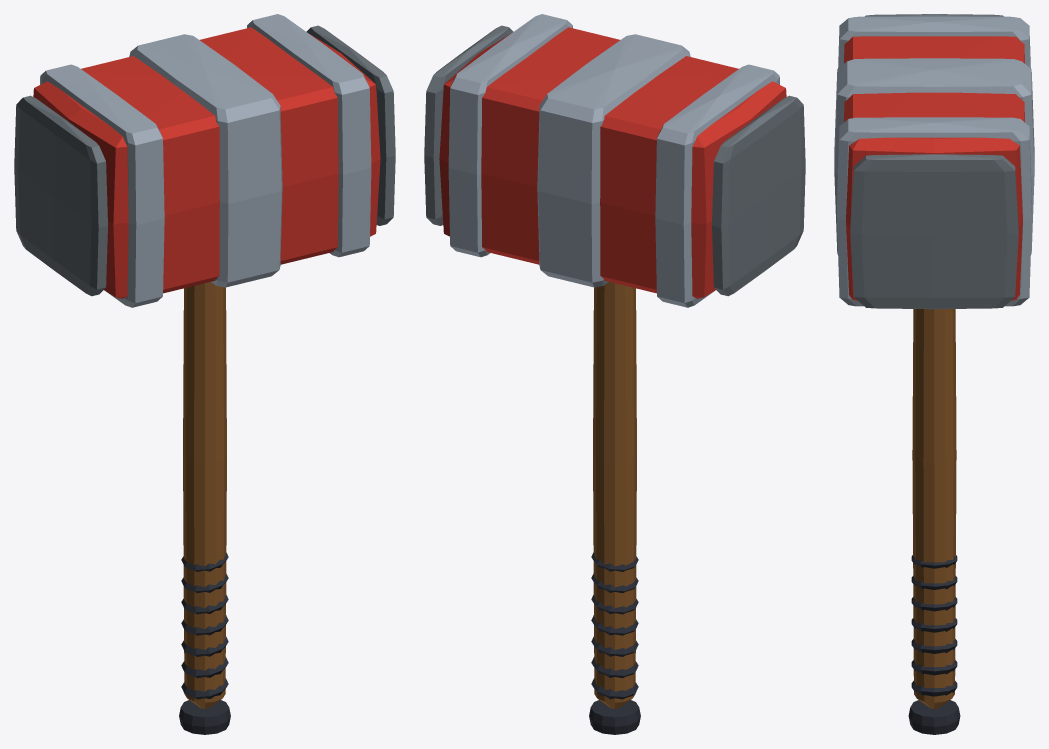
Rendered from m-sledge.glb.
3 views of the same model, side by side, from view 1: azimuth 30°, elevation 25°; view 2: azimuth 150°, elevation 25°; view 3: azimuth 270°, elevation 25° (orthographic).
Visible parts, largest first — view 1: melee; view 2: melee; view 3: melee.
Part boxes in pixels (left/top/right/bottom): melee: left=14, top=14, right=395, bottom=734; melee: left=424, top=14, right=805, bottom=734; melee: left=834, top=14, right=1034, bottom=734.
Size of the model in its own units: 1.34 by 2.79 by 0.7722.
